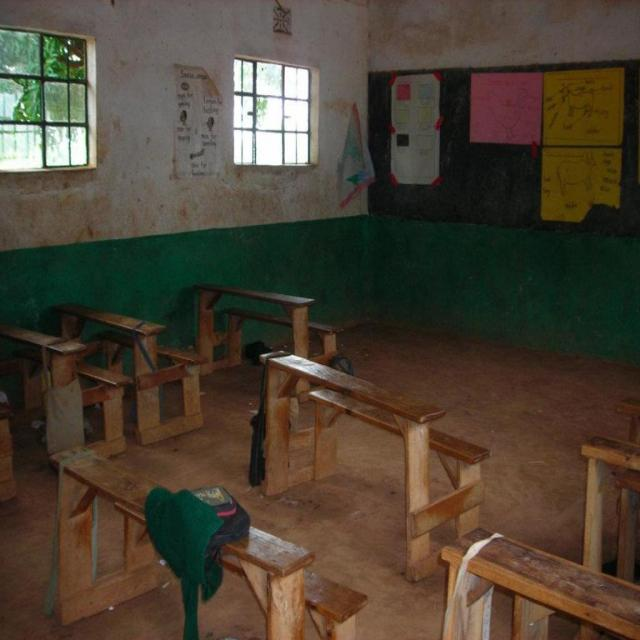desk: (252, 340, 483, 549), (46, 295, 170, 447)
